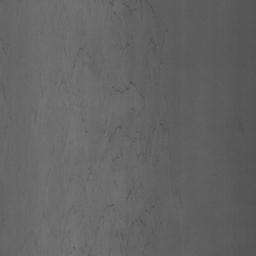Silk spot: (136, 0, 160, 17), (112, 81, 136, 94), (148, 37, 164, 54), (109, 124, 122, 143), (89, 56, 100, 75), (79, 240, 92, 256), (122, 1, 136, 15), (126, 186, 137, 200), (132, 216, 146, 227), (160, 120, 169, 136)
